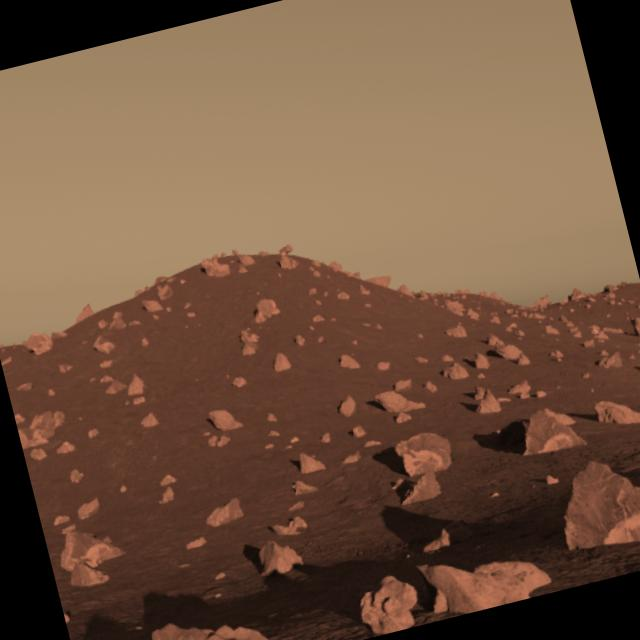rock: (543, 434, 640, 574), (413, 528, 550, 622), (120, 584, 292, 640), (45, 513, 126, 579), (350, 568, 426, 638), (377, 424, 462, 484), (508, 400, 582, 464), (14, 404, 72, 449), (252, 534, 304, 580), (199, 492, 249, 530), (204, 403, 243, 436), (293, 444, 329, 479), (470, 386, 503, 418), (248, 294, 282, 324), (492, 337, 525, 366), (630, 313, 640, 337)
